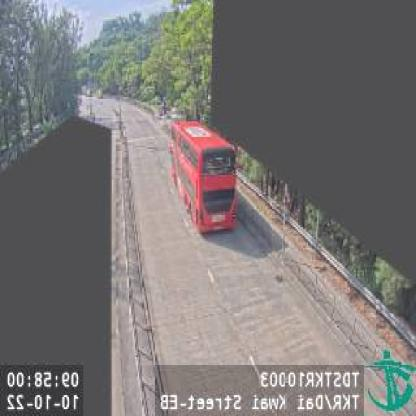Bus: (169, 119, 237, 235)
